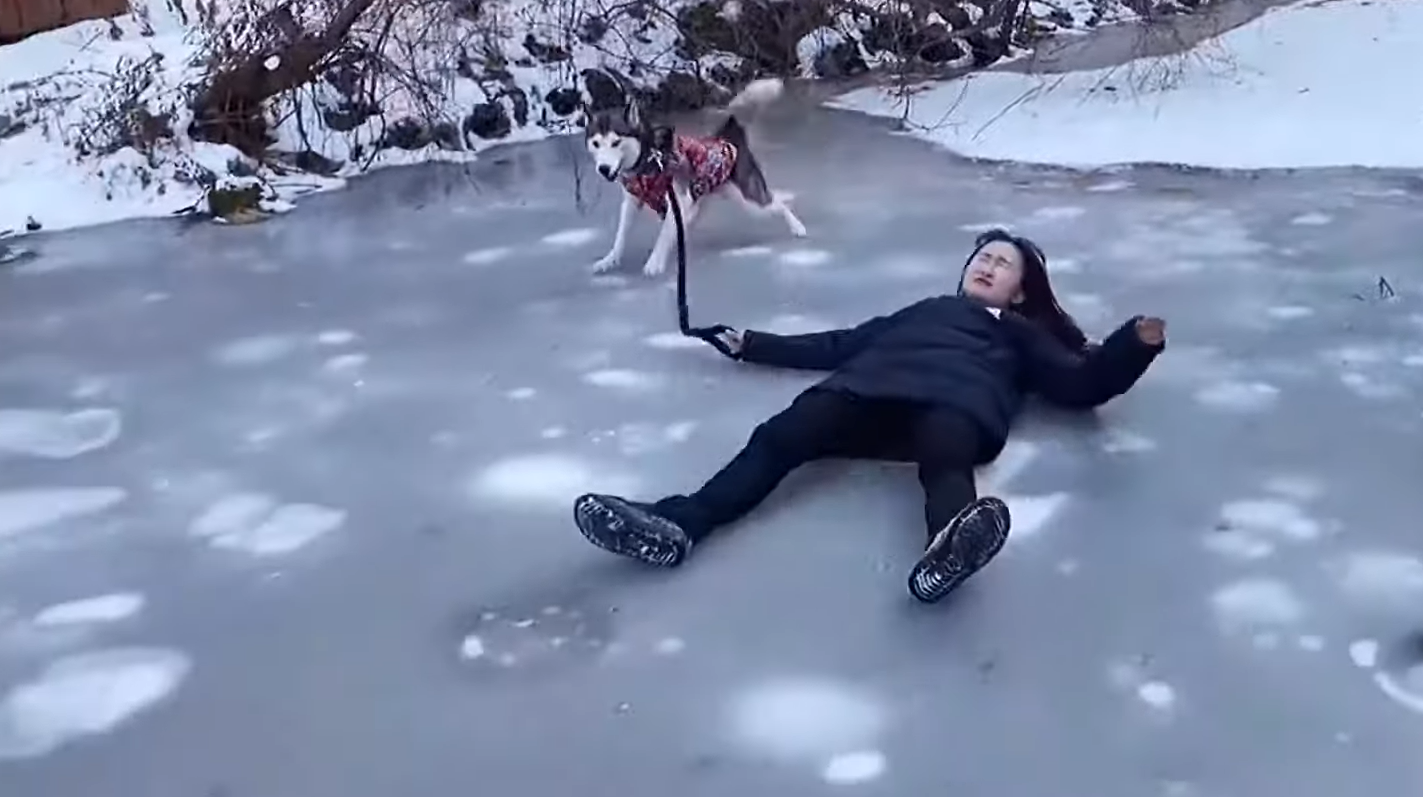fall: (550, 190, 1234, 634)
